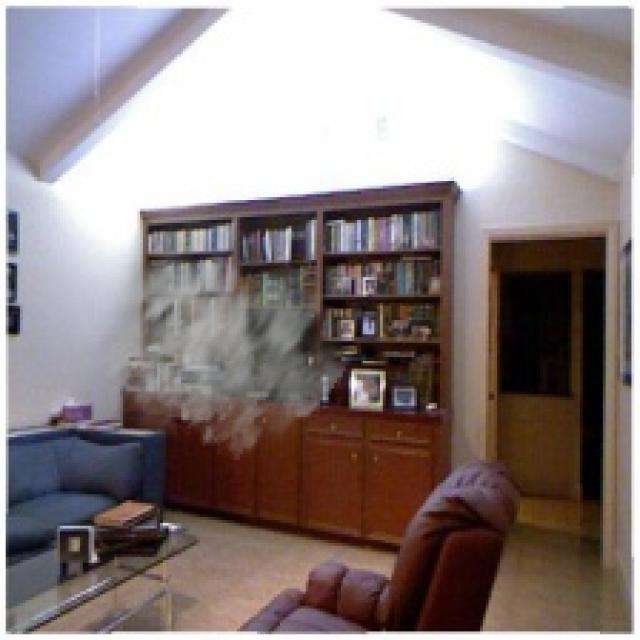smoke: (86, 214, 360, 463)
